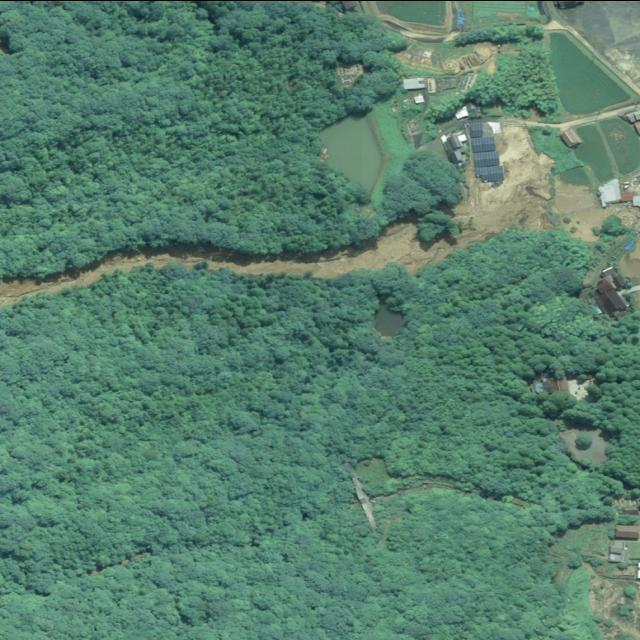landslide: (0, 123, 607, 306)
